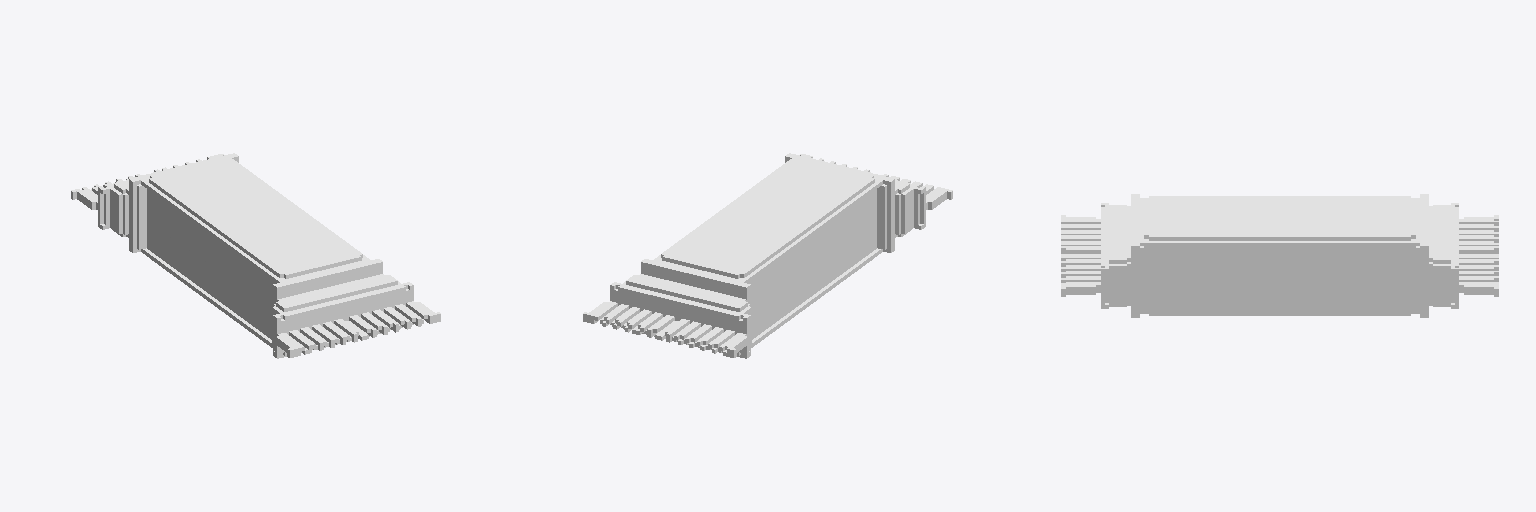
File: Barra_Enrg.obj
3 renders of one model, left to right at view 1: azimuth 30°, elevation 25°; view 2: azimuth 150°, elevation 25°; view 3: azimuth 270°, elevation 25°, orthographic.
Parts seen in each view (by area): view 1: object 1; view 2: object 1; view 3: object 1.
Part boxes in pixels (x1,y1,x2,y2): object 1: (71, 153, 440, 358); object 1: (583, 153, 952, 358); object 1: (1061, 194, 1498, 317).
Size of the model in its own units: 4 by 2 by 10.